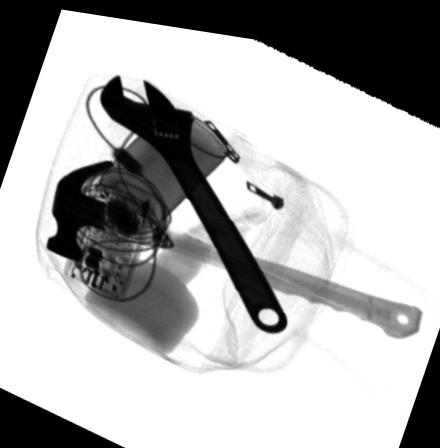Hammer: (45, 157, 423, 328)
Wrench: (100, 70, 289, 327)
